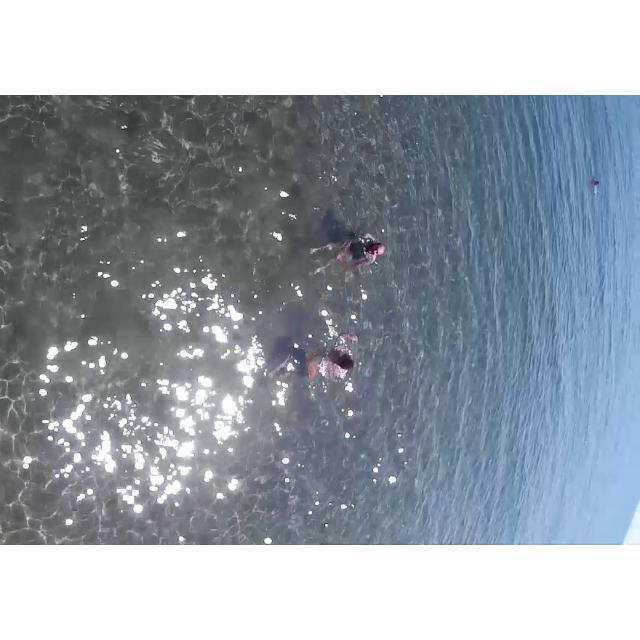human: (263, 327, 362, 395), (301, 226, 394, 288)
